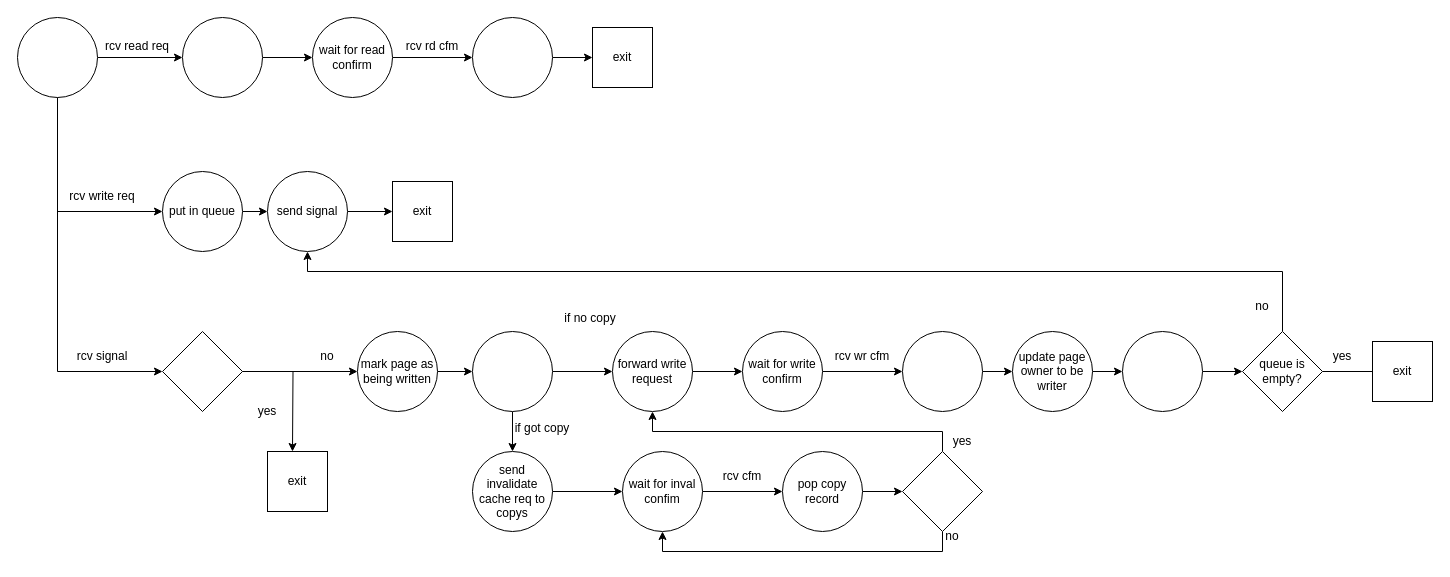
The diagram is 1450 pixels wide and 577 high, and some of its shapes have lost their labels. The shapes that lost their labels are listed below. From the top down, each one's box as (x1, y1, x2, y2) in pixels, then its label:
(16, 16, 98, 98): idle
(182, 16, 262, 98): foward read
(472, 16, 552, 98): add reader to copy set
(162, 330, 242, 412): check if being written
(472, 330, 552, 412): pop head of queue
(902, 330, 982, 412): remove page written mark
(1122, 330, 1202, 412): check page's queue
(902, 450, 982, 532): copy is empty?
